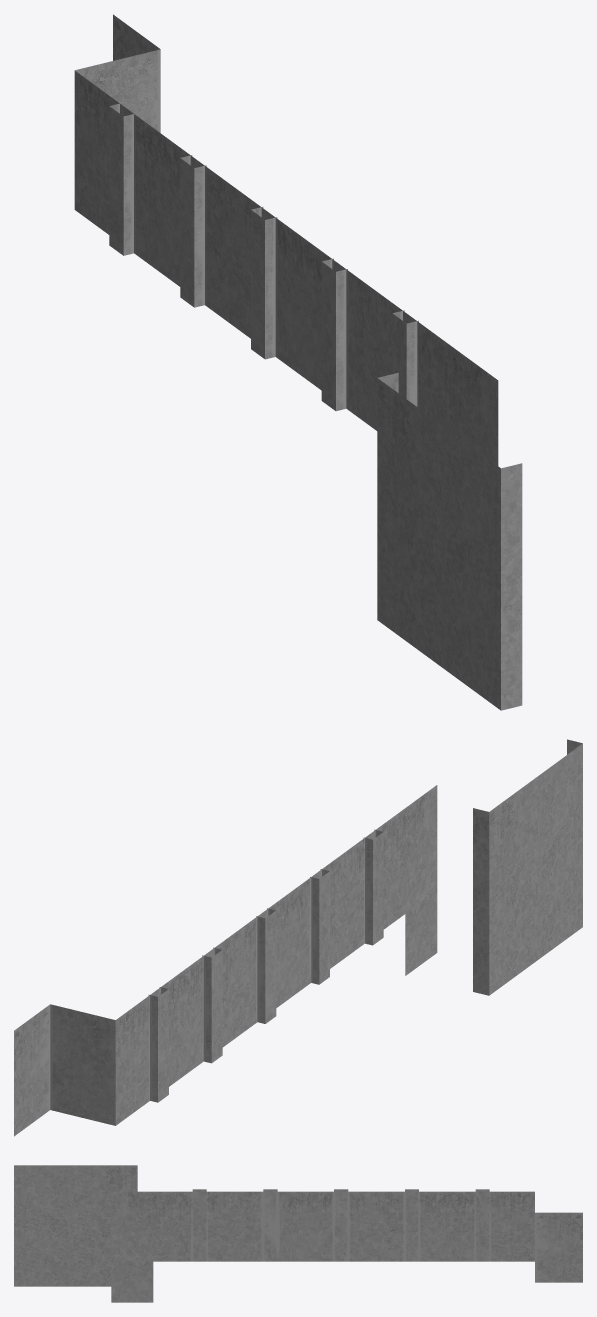
Rendered from map_003_wall.fbx.
3 views of the same model, one above another, from view 1: azimuth 30°, elevation 25°; view 2: azimuth 150°, elevation 25°; view 3: azimuth 270°, elevation 25° (orthographic). The views are drawn at different scales.
Visible parts, largest first — view 1: wall; view 2: wall; view 3: wall.
Boxes of the visible parts, left/top/right/bottom form: wall: left=74, top=14, right=522, bottom=710; wall: left=14, top=739, right=582, bottom=1136; wall: left=14, top=1165, right=582, bottom=1302.
Bounding box in the file's own units: 16082 × 3779 × 2952.
